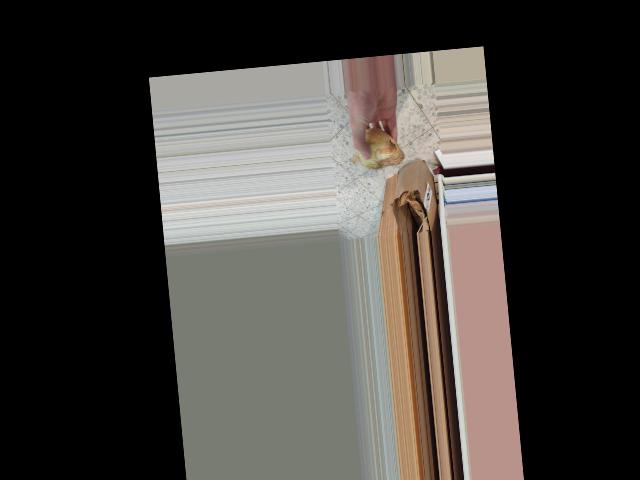onion: (351, 120, 405, 177)
